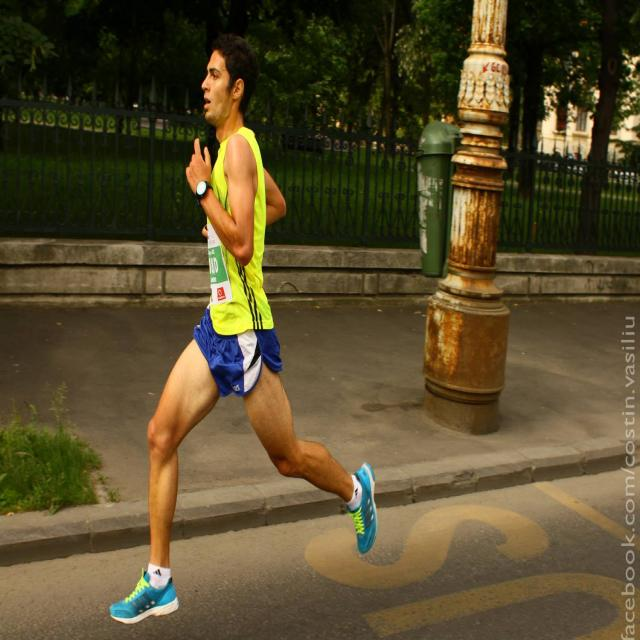running: (109, 32, 383, 629)
